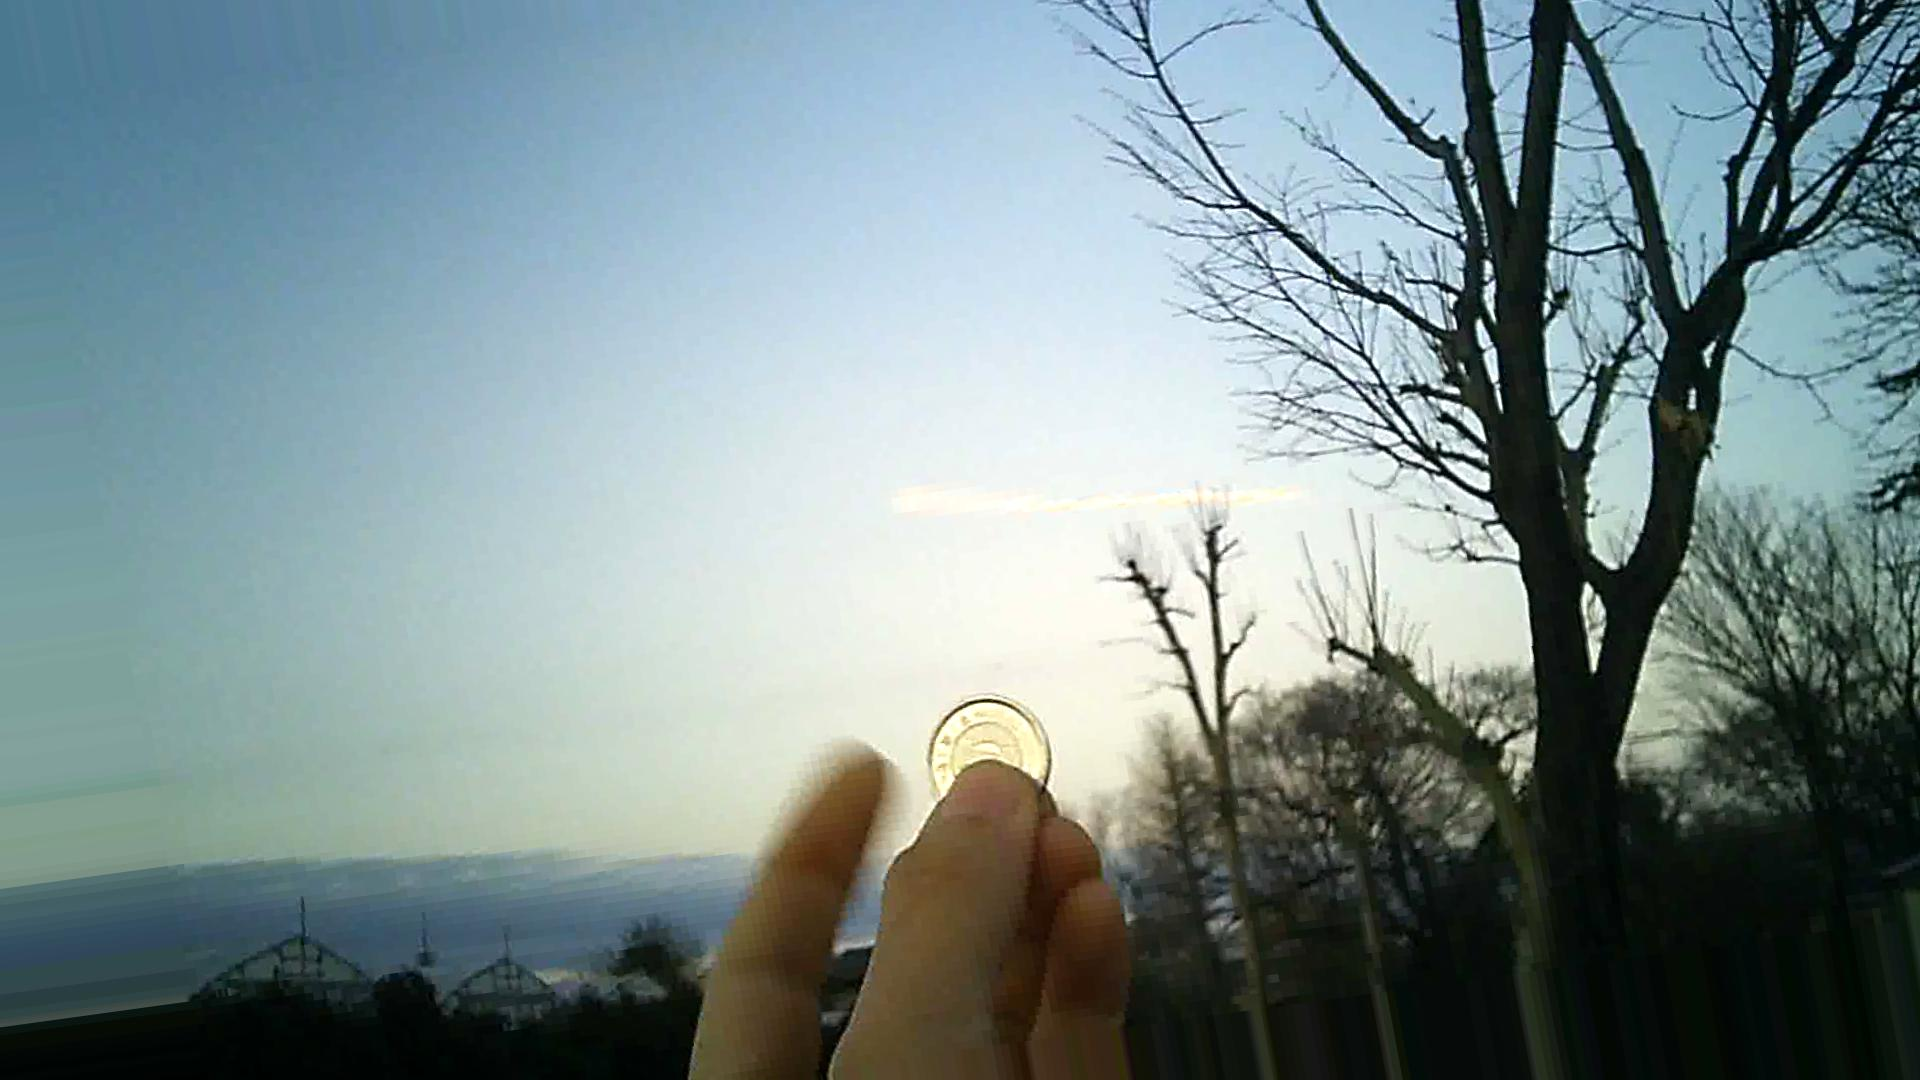1 Yen: (923, 692, 1056, 814)
